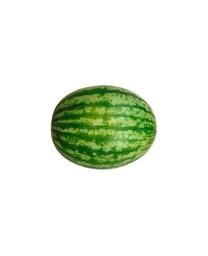watermelon: (53, 85, 158, 171)
